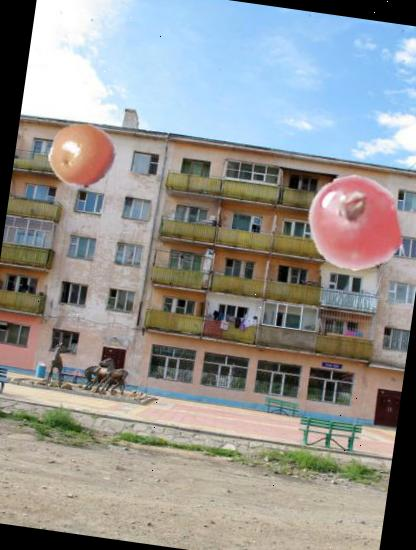Redcurrant: (300, 170, 408, 277)
Tangelo: (44, 118, 121, 195)
